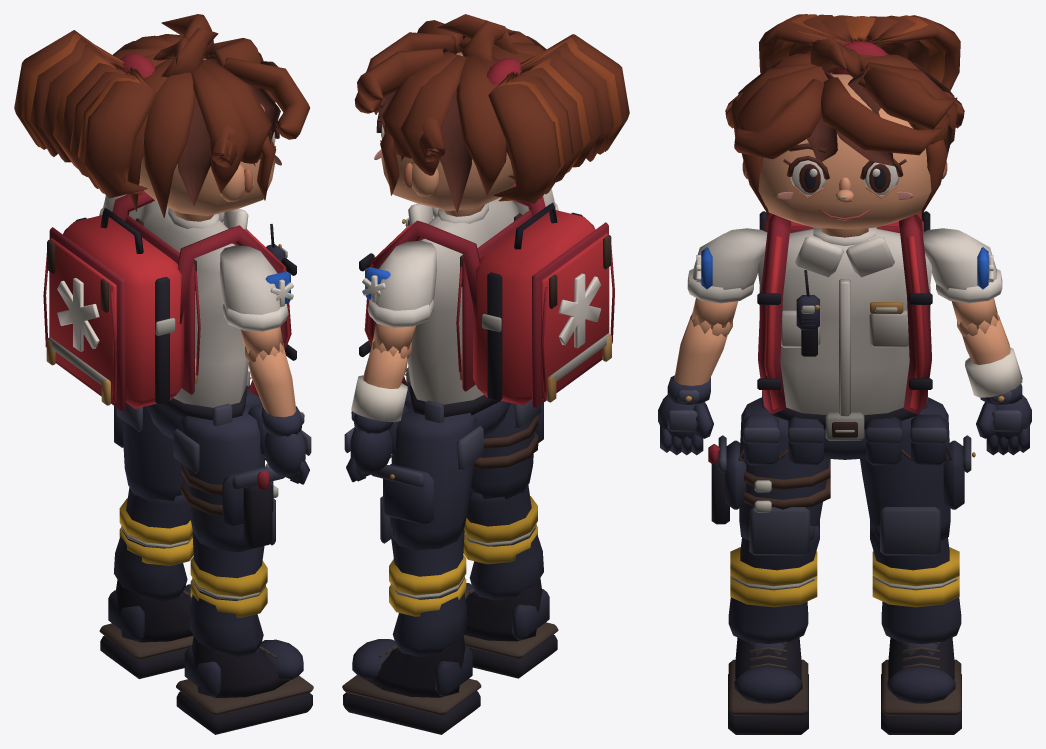
The picture shows the model from 3 angles, left to right: view 1: azimuth 30°, elevation 25°; view 2: azimuth 150°, elevation 25°; view 3: azimuth 270°, elevation 25°; orthographic projection.
Parts seen in each view (by area): view 1: head_pal_picketWhite, torso_pal_picketWhite, legR_pal_picketWhite, footR_pal_picketWhite, shinR_pal_picketWhite, shinL_pal_picketWhite, footL_pal_picketWhite, armR_pal_picketWhite, legL_pal_picketWhite, foreArmR_pal_picketWhite, hip_pal_picketWhite, handR_pal_picketWhite; view 2: head_pal_picketWhite, torso_pal_picketWhite, legL_pal_picketWhite, footL_pal_picketWhite, shinL_pal_picketWhite, shinR_pal_picketWhite, footR_pal_picketWhite, armL_pal_picketWhite, legR_pal_picketWhite, foreArmL_pal_picketWhite, hip_pal_picketWhite, handL_pal_picketWhite; view 3: head_pal_picketWhite, torso_pal_picketWhite, legR_pal_picketWhite, hip_pal_picketWhite, legL_pal_picketWhite, shinR_pal_picketWhite, shinL_pal_picketWhite, footL_pal_picketWhite, footR_pal_picketWhite, armL_pal_picketWhite, armR_pal_picketWhite, foreArmL_pal_picketWhite (+3 smaller).
Part boxes in pixels (x1,y1,x2,y2): head_pal_picketWhite: (14, 14, 309, 221); torso_pal_picketWhite: (43, 190, 296, 411); legR_pal_picketWhite: (173, 404, 284, 551); footR_pal_picketWhite: (176, 635, 313, 734); shinR_pal_picketWhite: (190, 531, 267, 657); shinL_pal_picketWhite: (114, 487, 193, 601); footL_pal_picketWhite: (99, 580, 193, 678); armR_pal_picketWhite: (219, 245, 293, 356); legL_pal_picketWhite: (114, 402, 184, 501); foreArmR_pal_picketWhite: (245, 343, 304, 436); hip_pal_picketWhite: (146, 371, 266, 460); handR_pal_picketWhite: (264, 430, 311, 484); head_pal_picketWhite: (354, 14, 629, 216); torso_pal_picketWhite: (359, 183, 614, 408); legL_pal_picketWhite: (371, 401, 483, 550); footL_pal_picketWhite: (342, 634, 481, 734); shinL_pal_picketWhite: (389, 529, 466, 656); shinR_pal_picketWhite: (463, 485, 543, 600); footR_pal_picketWhite: (463, 578, 558, 678); armL_pal_picketWhite: (362, 240, 436, 353); legR_pal_picketWhite: (471, 399, 543, 499); foreArmL_pal_picketWhite: (351, 339, 411, 433); hip_pal_picketWhite: (389, 367, 510, 458); handL_pal_picketWhite: (344, 427, 391, 482); head_pal_picketWhite: (725, 14, 964, 237); torso_pal_picketWhite: (757, 211, 932, 416); legR_pal_picketWhite: (708, 397, 830, 555); hip_pal_picketWhite: (738, 392, 951, 465); legL_pal_picketWhite: (860, 397, 975, 555); shinR_pal_picketWhite: (728, 521, 819, 643); shinL_pal_picketWhite: (870, 521, 961, 643); footL_pal_picketWhite: (881, 637, 961, 734); footR_pal_picketWhite: (728, 637, 808, 734); armL_pal_picketWhite: (922, 228, 1002, 329); armR_pal_picketWhite: (687, 228, 767, 329); foreArmL_pal_picketWhite: (957, 312, 1022, 404).
Size of the model in its own units: 0.4944 by 1.44 by 0.7352.
